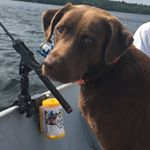puppy: (37, 1, 141, 98)
